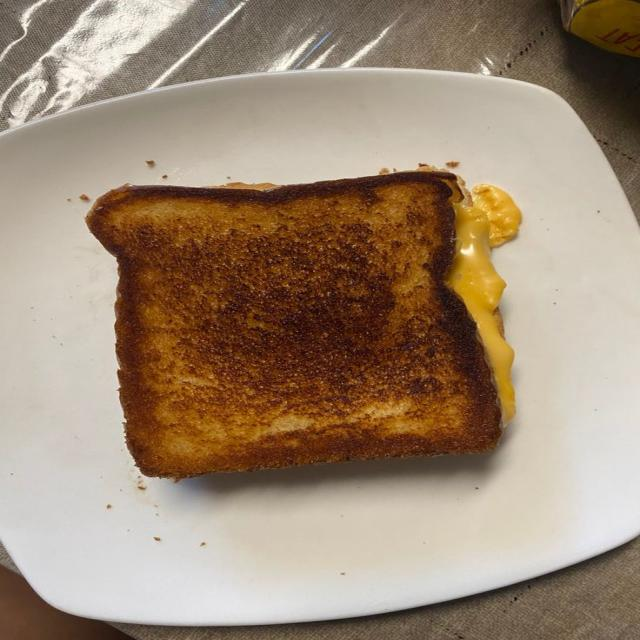toast bread: (87, 172, 500, 478)
